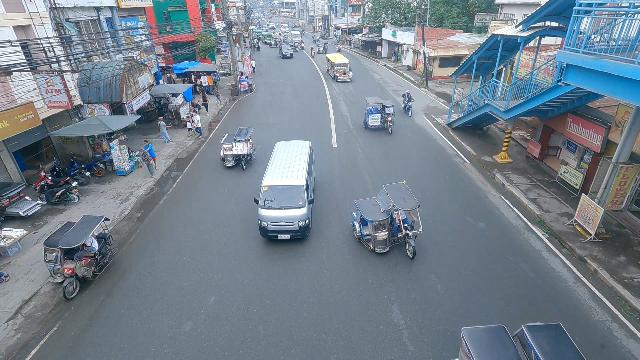car: (278, 43, 294, 60)
jeepney: (325, 53, 354, 83), (261, 32, 274, 44)
motorcycle: (401, 90, 415, 117), (255, 40, 261, 51), (310, 46, 315, 57), (336, 41, 341, 52), (300, 41, 305, 51), (312, 34, 317, 44), (302, 28, 305, 36)
van: (255, 138, 316, 245), (290, 30, 302, 41)
